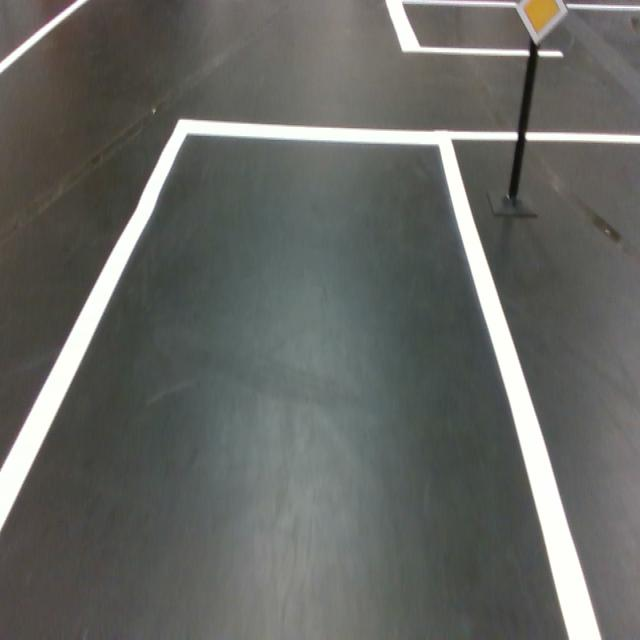priority-sign: (515, 0, 568, 47)
